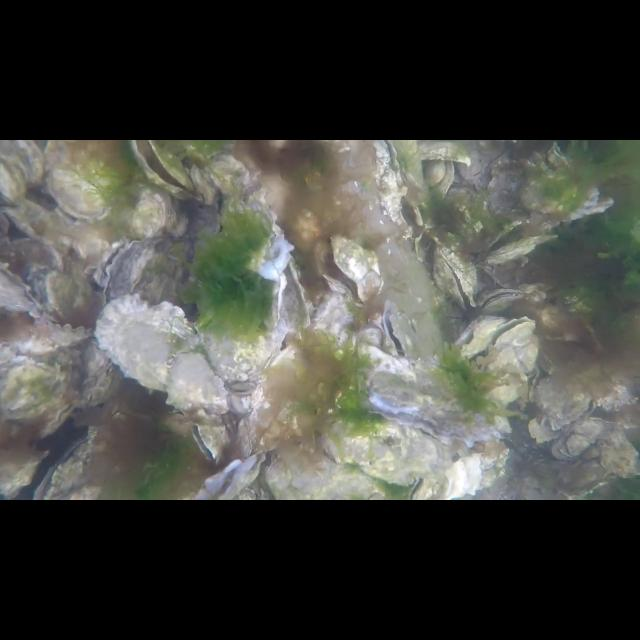Oyster-Closed: (43, 140, 131, 224), (485, 232, 563, 266), (39, 396, 81, 438), (40, 318, 94, 346), (393, 140, 423, 188), (360, 324, 382, 351)
Oyster-Indeterminate: (95, 293, 232, 412), (324, 421, 454, 485), (248, 344, 308, 444), (0, 358, 78, 420), (7, 195, 75, 252), (43, 264, 99, 316), (0, 140, 44, 200), (312, 290, 353, 354), (128, 188, 170, 236)
Oyster-Open: (203, 152, 295, 280), (368, 366, 502, 446), (32, 434, 114, 500), (320, 229, 382, 307), (372, 140, 423, 230), (532, 368, 596, 428), (476, 314, 538, 374), (193, 450, 265, 500), (130, 140, 193, 193), (434, 246, 482, 308), (94, 230, 140, 290), (276, 253, 310, 331), (0, 259, 44, 313), (454, 314, 508, 354), (381, 300, 415, 358), (190, 421, 228, 464), (481, 287, 524, 311)
